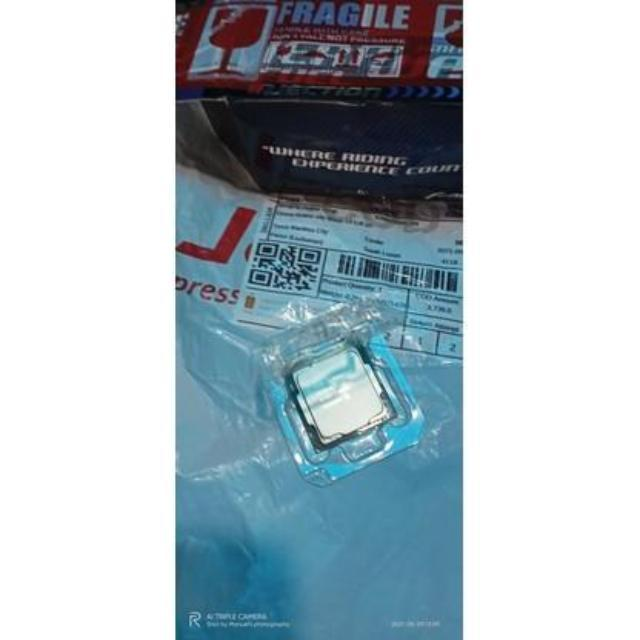CPU: (280, 353, 402, 447)
